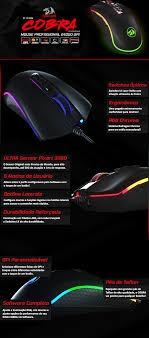mouse: (1, 63, 99, 157), (10, 267, 140, 332), (71, 155, 149, 224), (85, 0, 145, 56)
